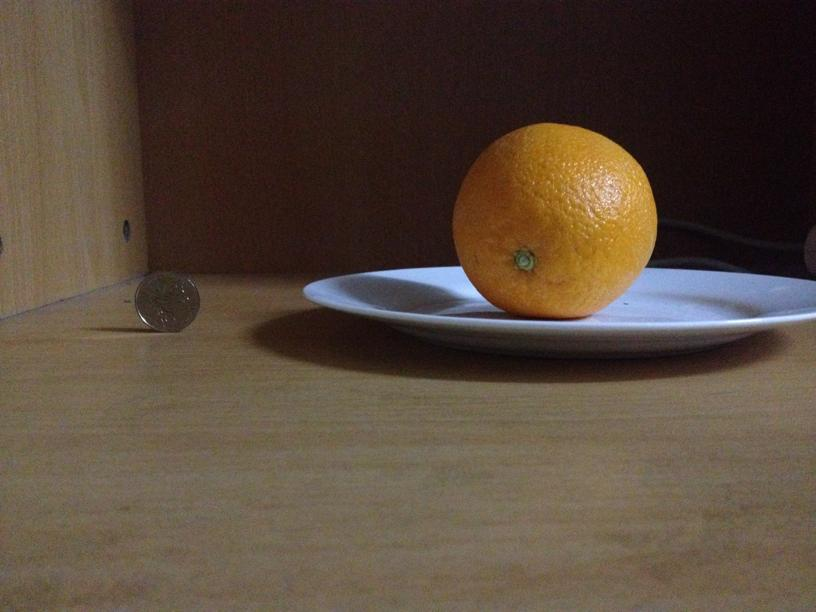coin: (136, 271, 200, 330)
orange: (449, 119, 655, 318)
